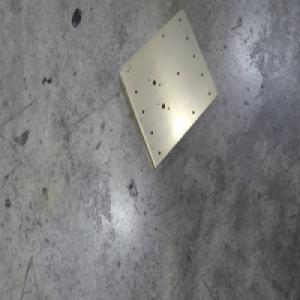MetalSheet: (117, 7, 219, 172)
